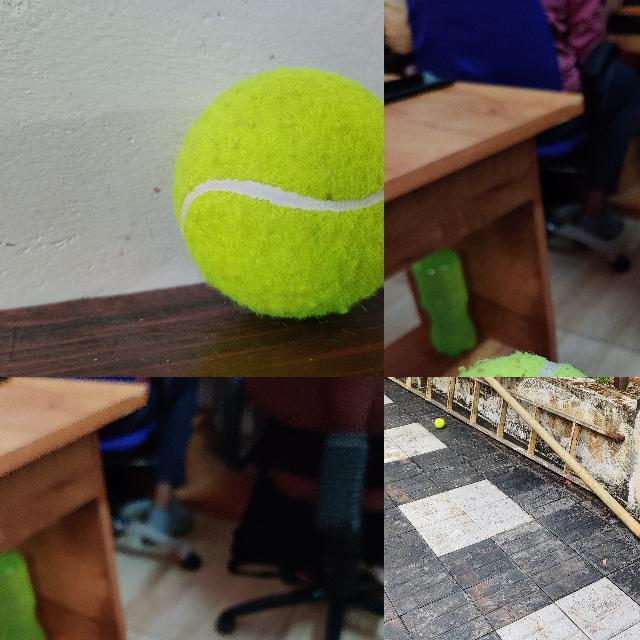tennis-ball: (172, 66, 383, 320), (434, 418, 444, 428)
